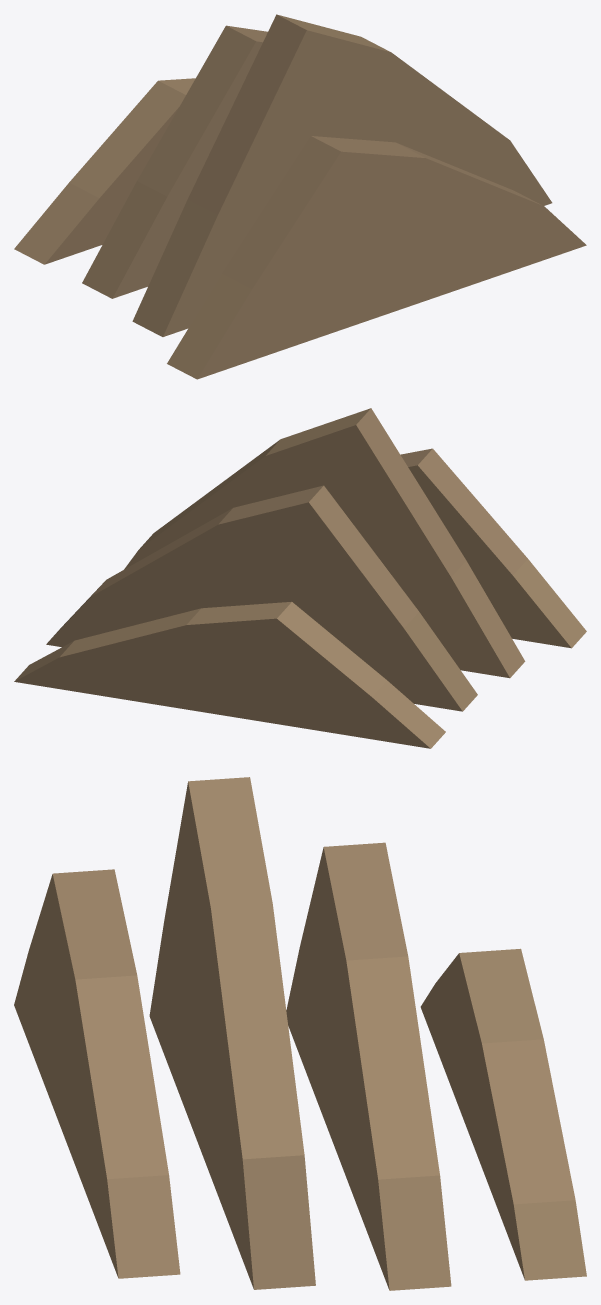
The model's file is Environment_Feature_Desert_YardangFins_001_LOD1.glb.
3 views of the same model, one above another, from view 1: azimuth 30°, elevation 25°; view 2: azimuth 150°, elevation 25°; view 3: azimuth 270°, elevation 25° (orthographic). The views are drawn at different scales.
Parts seen in each view (by area): view 1: Environment_Feature_Desert_YardangFins_001_LOD1; view 2: Environment_Feature_Desert_YardangFins_001_LOD1; view 3: Environment_Feature_Desert_YardangFins_001_LOD1.
Part boxes in pixels (x1=…): Environment_Feature_Desert_YardangFins_001_LOD1: x1=14, y1=14, x2=586, y2=379; Environment_Feature_Desert_YardangFins_001_LOD1: x1=14, y1=408, x2=586, y2=748; Environment_Feature_Desert_YardangFins_001_LOD1: x1=14, y1=777, x2=586, y2=1290.
Size of the model in its own units: 4.81 by 2.6 by 4.02.
